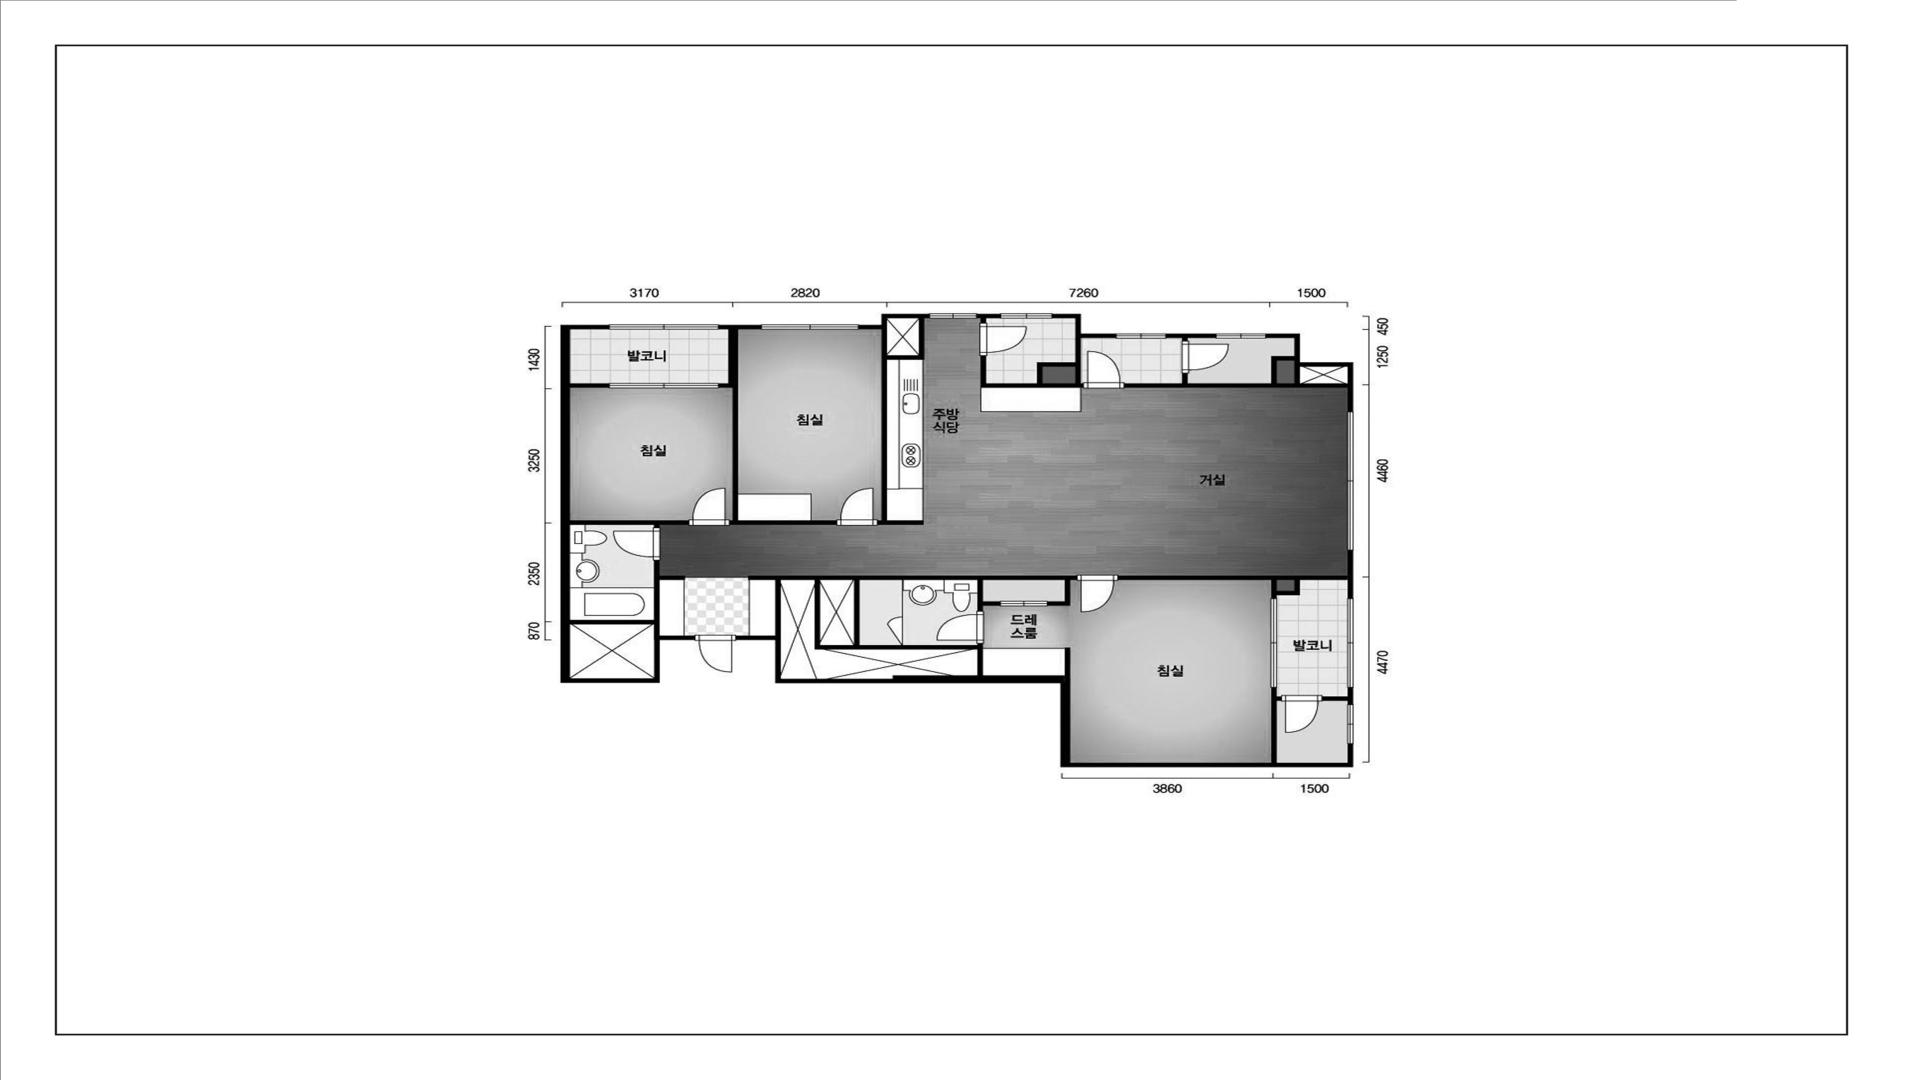background: (0, 0, 1920, 1080)
door: (1282, 695, 1324, 733), (936, 611, 985, 644), (613, 527, 661, 560), (980, 323, 1027, 356), (688, 487, 729, 525), (836, 488, 877, 526), (1084, 351, 1125, 389), (1077, 575, 1118, 613), (695, 634, 736, 673), (1182, 342, 1230, 373), (885, 580, 903, 645), (1000, 600, 1047, 607)
wall: (560, 328, 570, 683), (775, 675, 1060, 683), (728, 330, 738, 520), (748, 575, 1077, 580), (887, 318, 924, 360), (1060, 762, 1348, 767), (881, 330, 887, 521), (1117, 575, 1348, 580), (570, 520, 688, 527), (1060, 675, 1071, 762), (1124, 384, 1348, 388), (1036, 363, 1075, 384), (1271, 687, 1280, 762), (1271, 356, 1295, 384), (815, 645, 977, 649), (1047, 580, 1071, 605), (881, 314, 930, 324), (570, 678, 654, 683), (729, 521, 836, 525), (654, 560, 659, 636), (986, 384, 1083, 388), (1276, 580, 1300, 595), (815, 580, 820, 645), (855, 580, 860, 645), (570, 620, 654, 624), (1075, 338, 1081, 384), (775, 580, 781, 636), (775, 636, 782, 679), (560, 324, 609, 330), (1348, 550, 1353, 597), (1348, 367, 1353, 411), (654, 640, 659, 683), (719, 324, 761, 330), (977, 644, 984, 675), (1300, 363, 1353, 367), (1166, 334, 1216, 338), (877, 521, 924, 525), (1064, 647, 1071, 675), (981, 356, 986, 388), (654, 636, 695, 640), (977, 580, 982, 611), (736, 636, 775, 640), (570, 384, 609, 388), (858, 324, 887, 330), (1295, 338, 1300, 367), (1081, 334, 1116, 338), (1266, 334, 1300, 338), (659, 575, 684, 580), (1348, 744, 1353, 767), (1052, 314, 1081, 318), (1294, 367, 1300, 384), (1321, 696, 1348, 700), (1075, 318, 1080, 338), (1271, 580, 1276, 599), (977, 314, 1001, 318), (1348, 687, 1353, 704), (1182, 373, 1188, 384), (982, 601, 1000, 605), (719, 384, 728, 388), (981, 318, 986, 323), (1183, 338, 1188, 342)
window: (1346, 411, 1354, 550), (1346, 597, 1354, 687), (1270, 599, 1276, 687), (609, 324, 719, 330), (609, 382, 719, 388), (761, 324, 858, 330), (928, 313, 977, 319), (1346, 704, 1354, 744), (1001, 314, 1052, 319), (1116, 334, 1166, 339), (1216, 334, 1266, 339)
